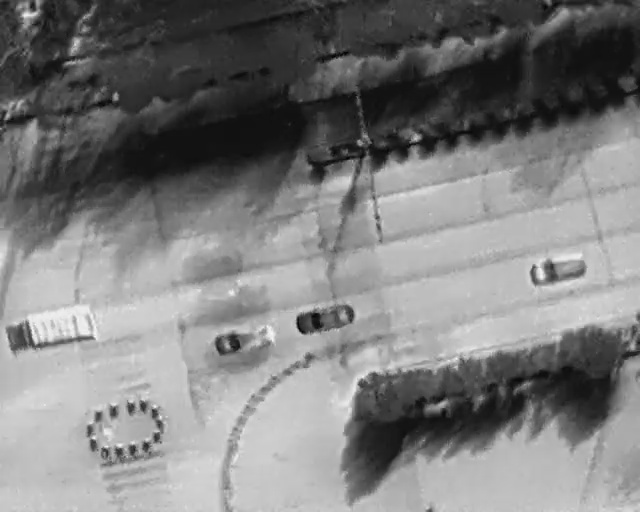Car: (207, 319, 277, 360), (527, 251, 588, 288), (293, 302, 354, 336)
OtherVehicle: (3, 302, 99, 358)
